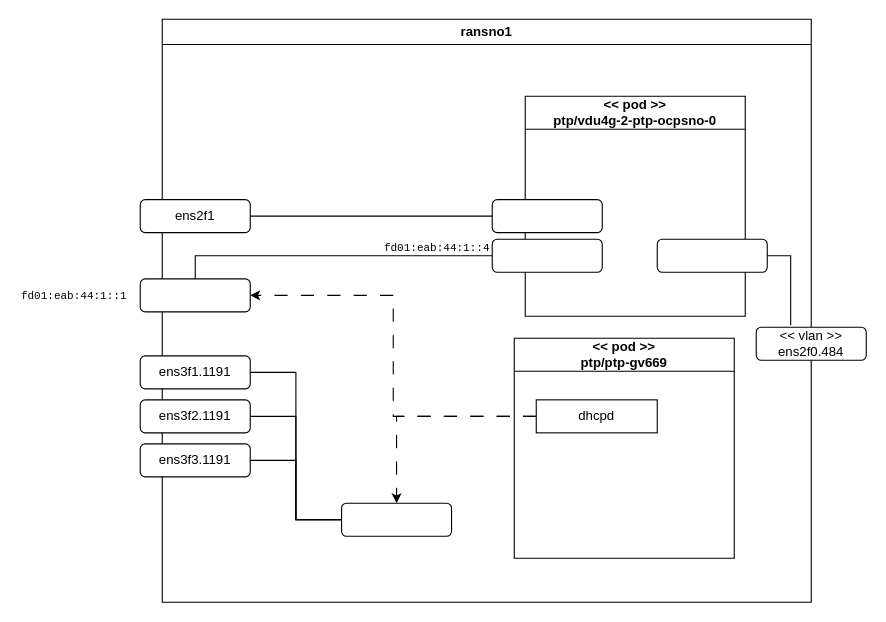
Some shapes in this 886 by 622 pixel diagram are drawn without their labels. Here are the shapes that lost their labels. From the top down, the box of each, then its label:
(491, 199, 602, 233): << vf >> ens2f1v1
(491, 238, 602, 272): << macvlan >> fh0
(656, 238, 767, 272): << macvlan >> mh0
(139, 278, 250, 312): << vlan >> ens2f1.1191
(340, 502, 452, 536): << bridge >> br-fh
